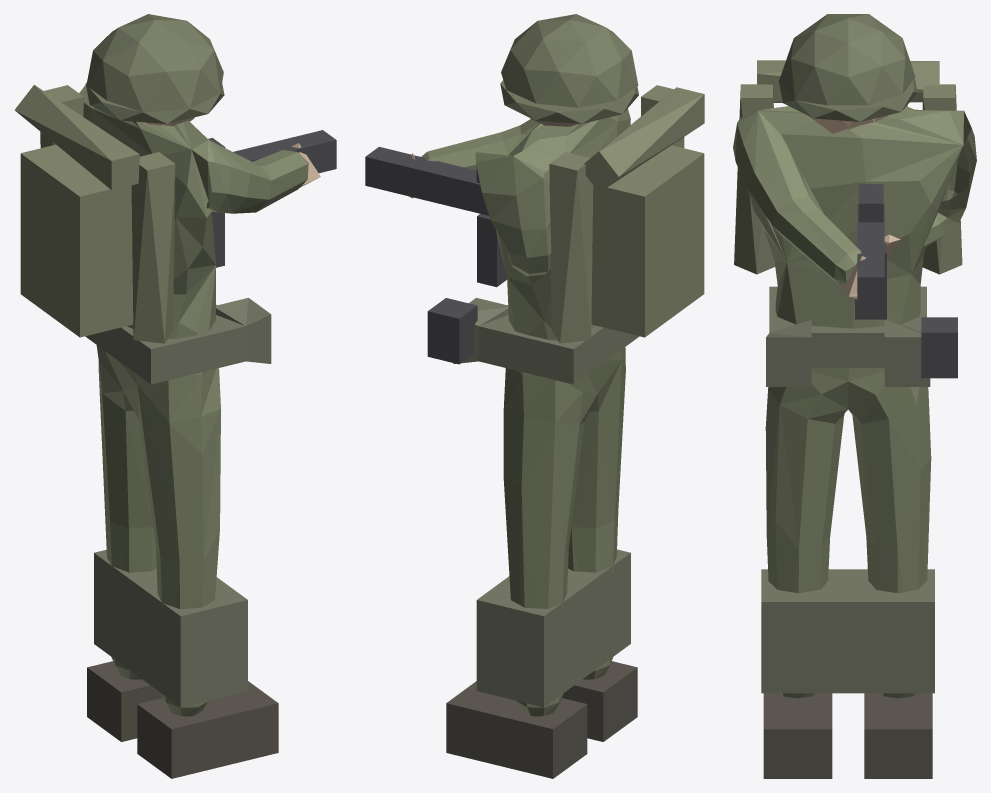
File: trooper_us_ww2.lod1.glb
3 views of the same model, side by side, from view 1: azimuth 30°, elevation 25°; view 2: azimuth 150°, elevation 25°; view 3: azimuth 270°, elevation 25° (orthographic).
Bounding box in the file's own units: 0.735 × 1.74 × 0.534.
